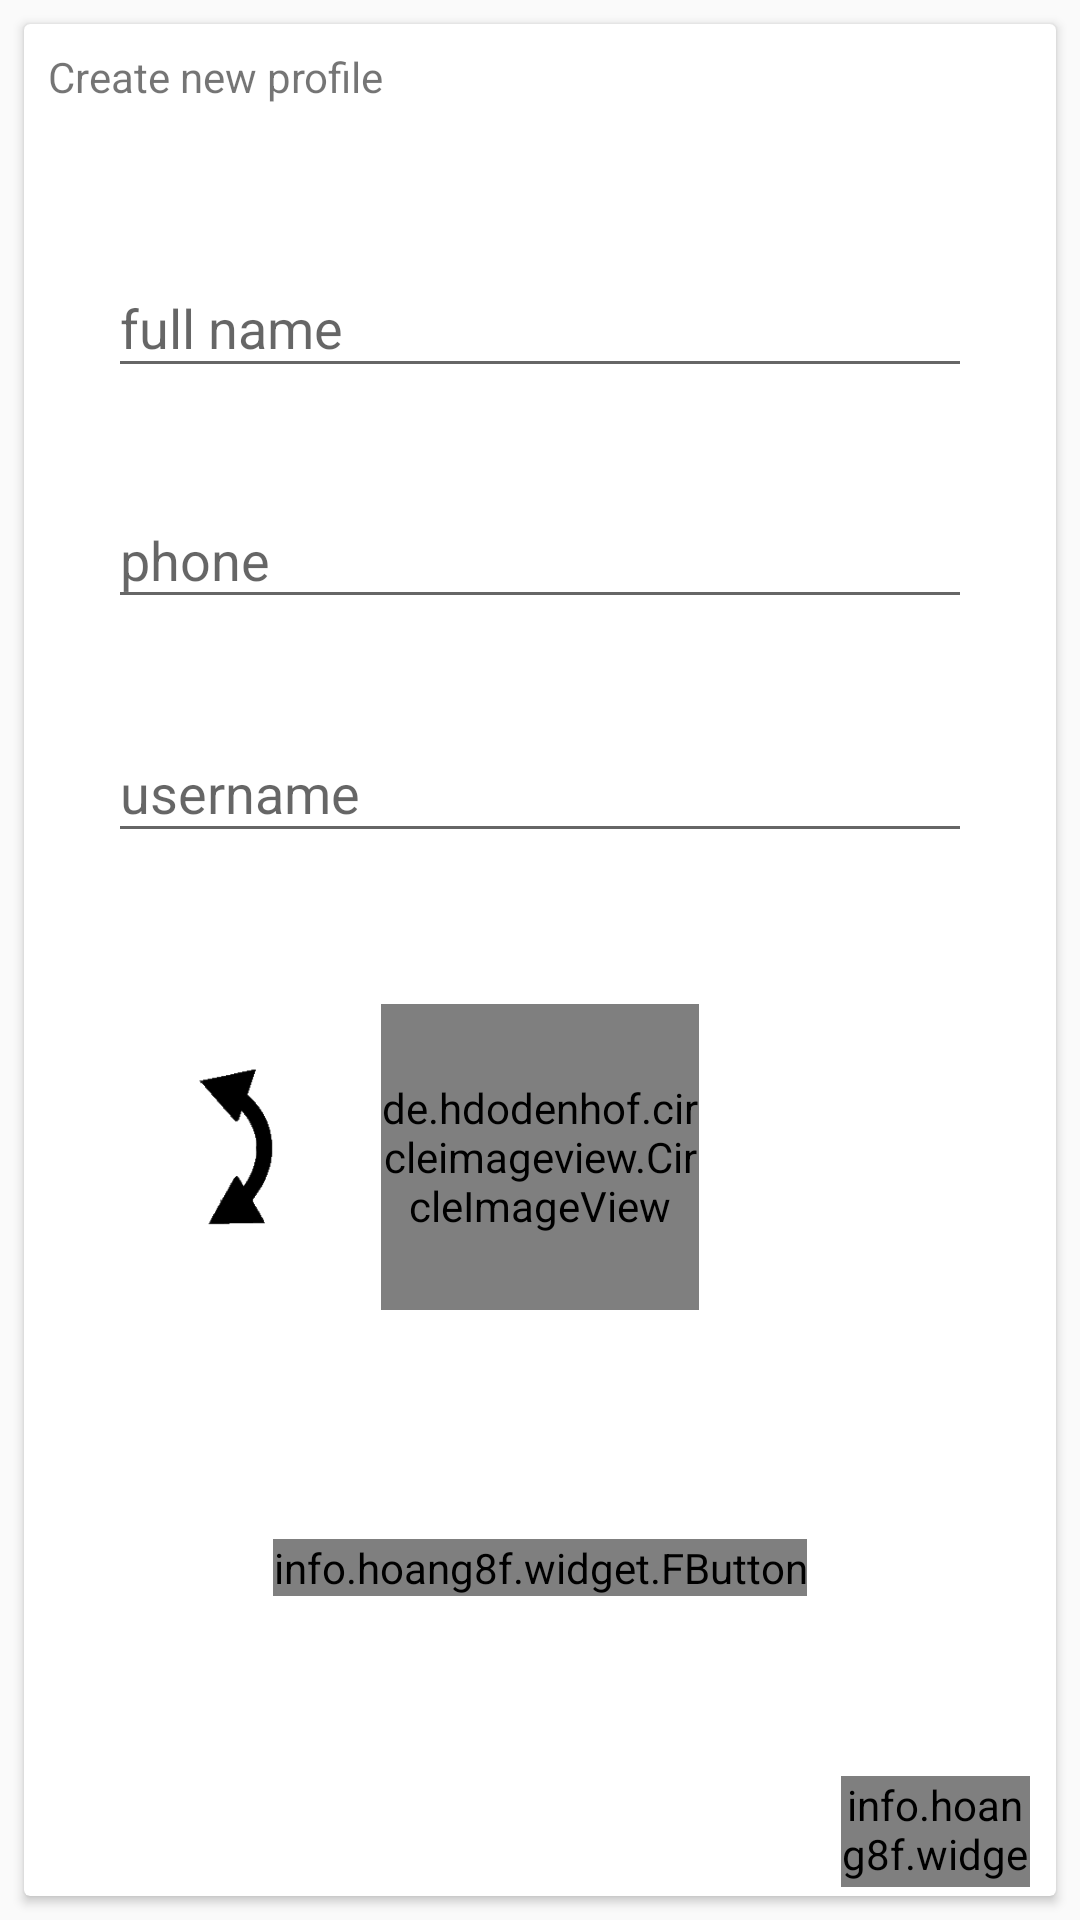

Icon bounding boxes for this 1080×1920 phone screenshot, format (x1, y1, x2, y2):
rotatecursor: (199, 1069, 273, 1225)
